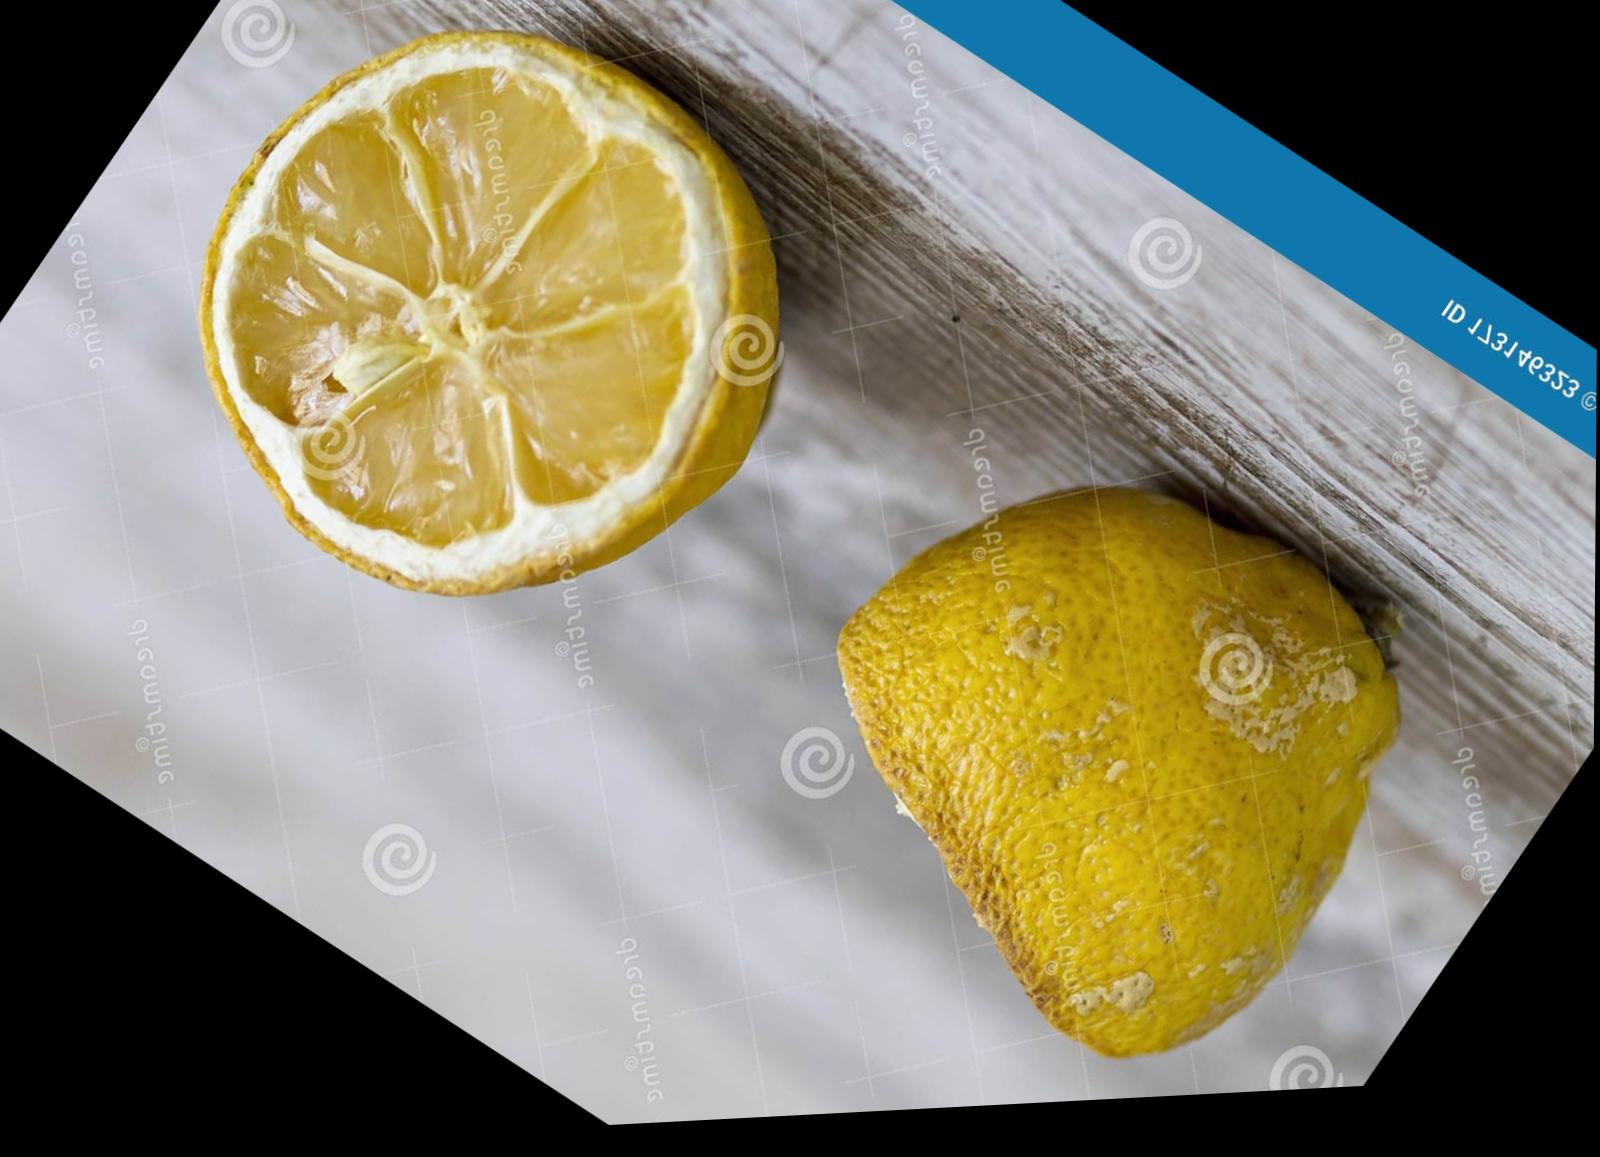organic: (765, 429, 1497, 1110), (70, 0, 780, 672)
